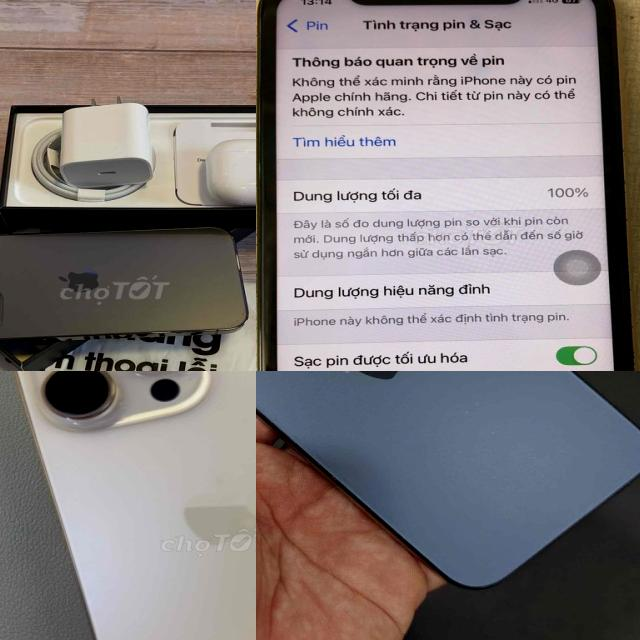gen_12_13: (0, 223, 256, 343)
gen_15: (256, 371, 640, 594)
gen_16: (14, 371, 256, 640)
gen_x_xs: (256, 0, 640, 371)
